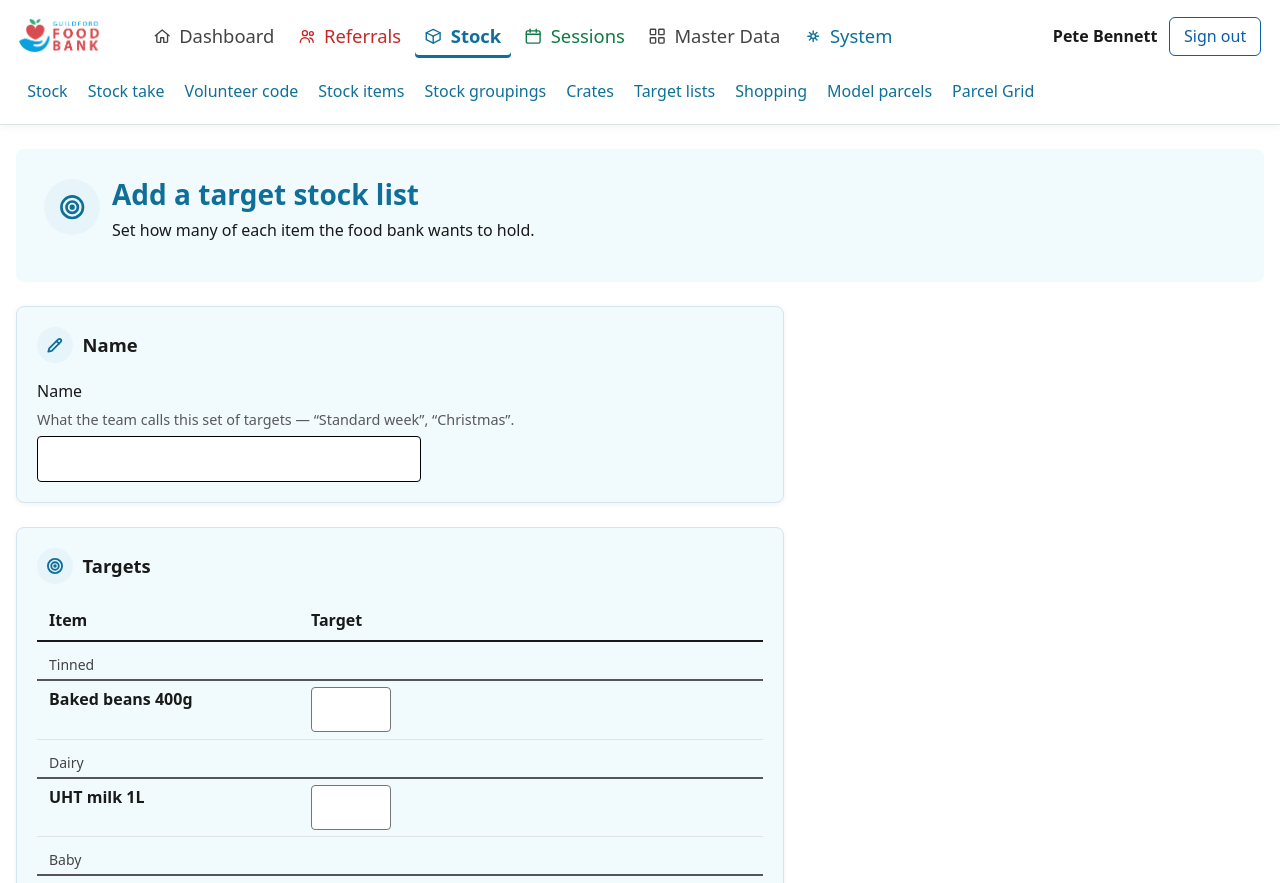
Test: adding a target stock list › saves an individual target for a current crate member without a crate target
Type "Individual crate member" into the field labelled "Name" at coordinates (229, 459), box [37,436,421,482]
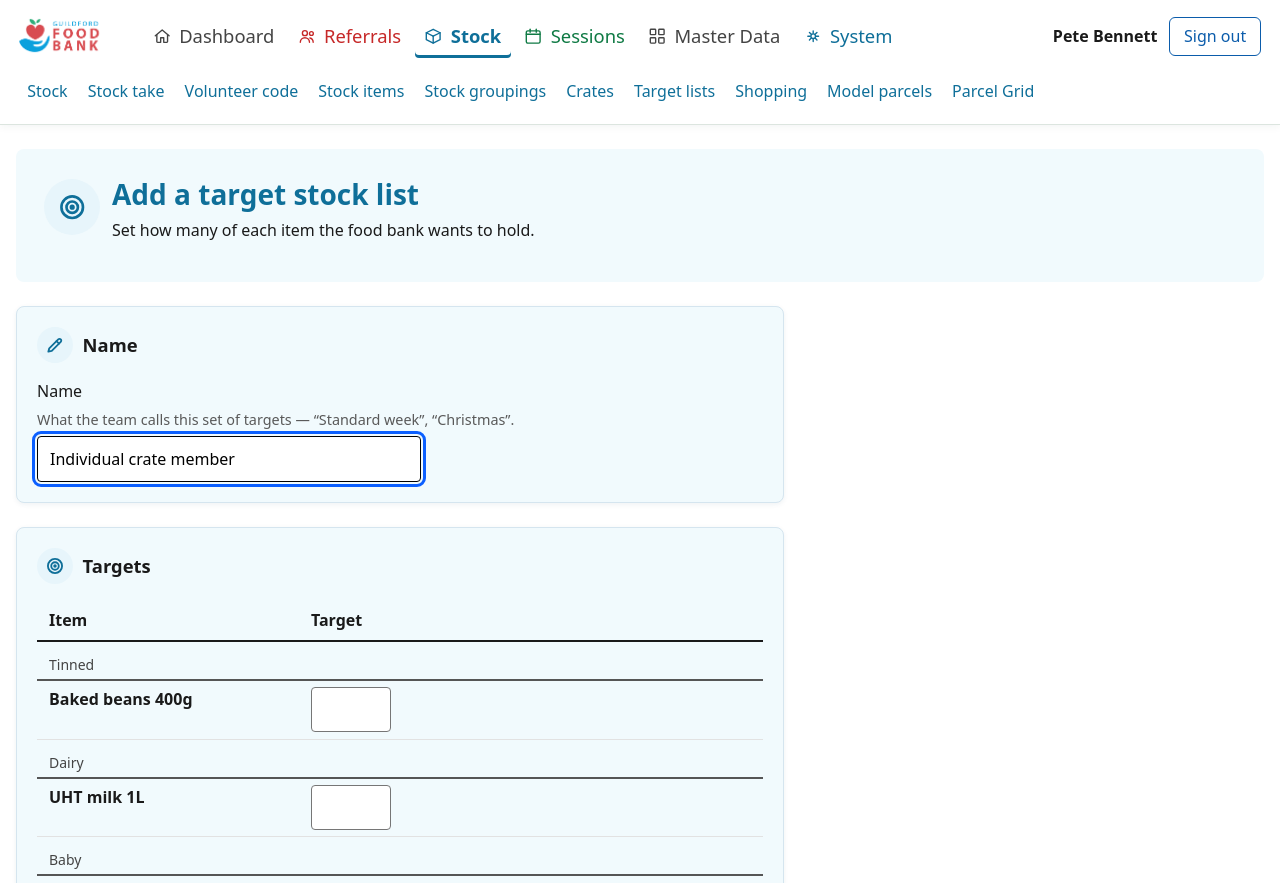
Type "96" into the field named "Target quantity for Baked beans 400g" at coordinates (351, 710), box [311,687,391,732]
(page scrolled)
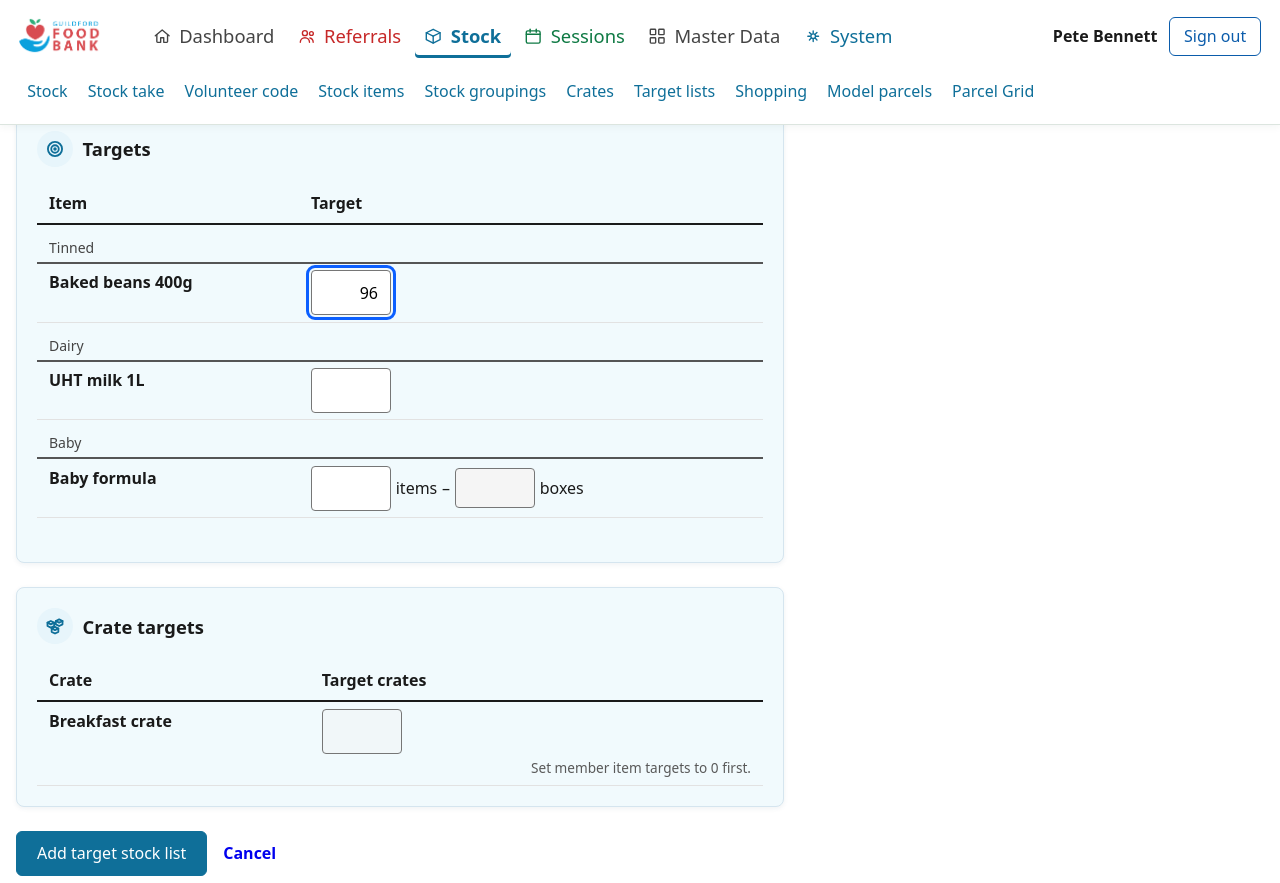
Expected: the field named "Target crates for Breakfast crate" is disabled, [322,709,402,754]
Click the button "Add target stock list" at coordinates (112, 853), box [16,831,207,876]
(page scrolled)
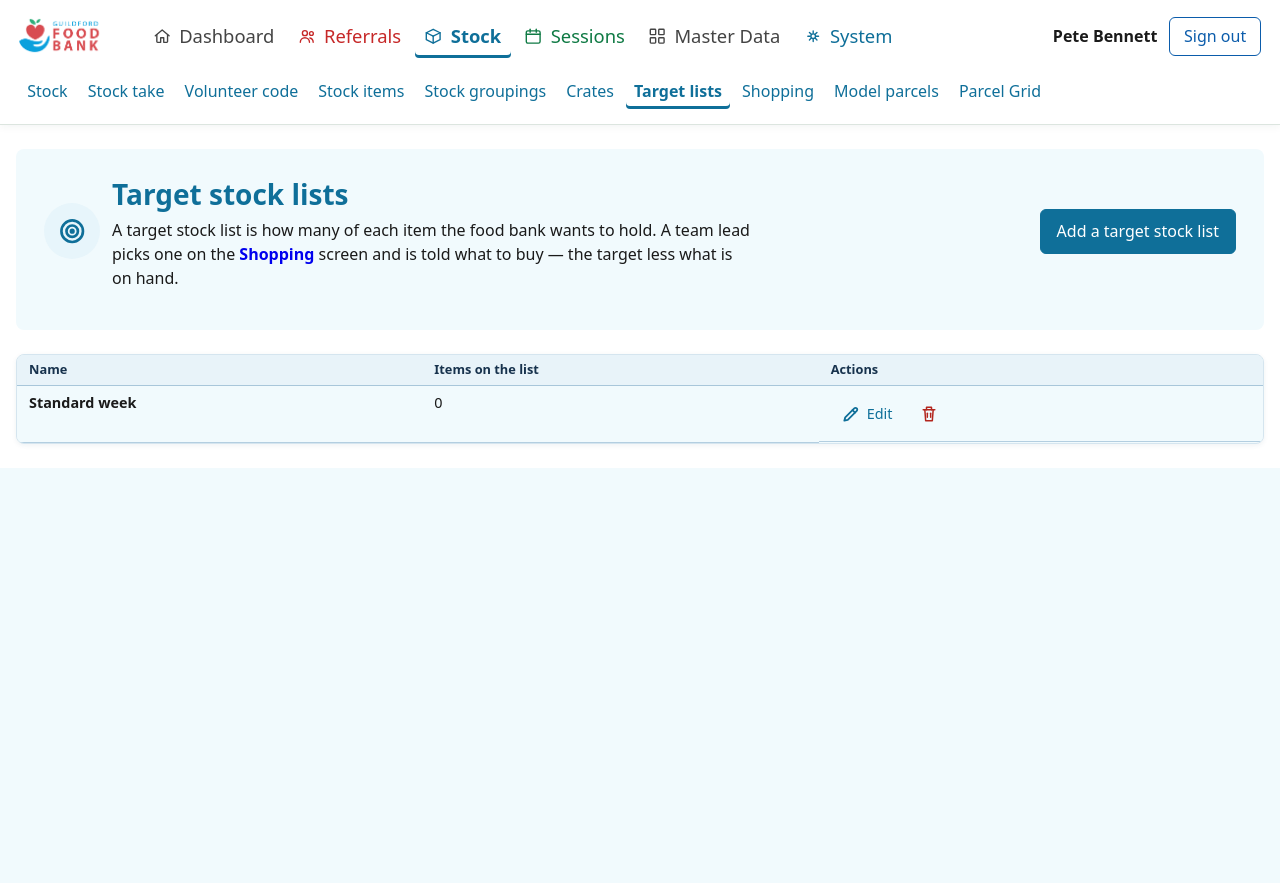
Expected: the heading "Target stock lists" is shown, [112,175,348,213]
